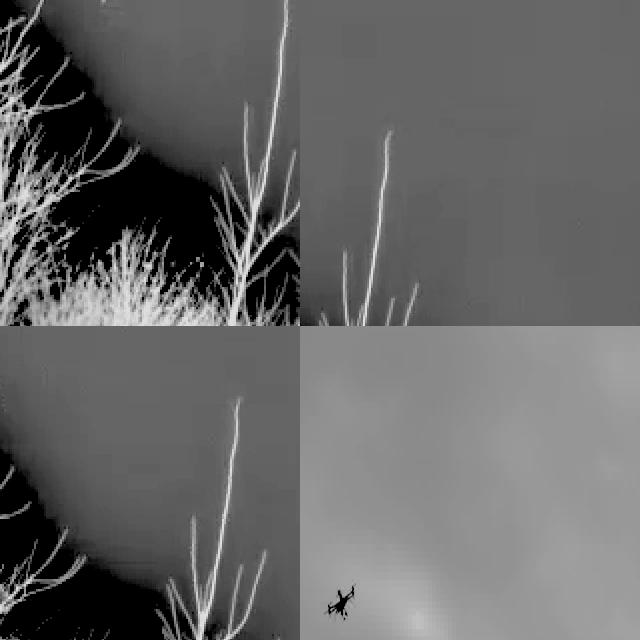0: (90, 0, 122, 16)
drone: (325, 576, 358, 624)
